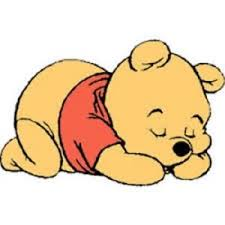Winnie: (85, 28, 225, 198)
